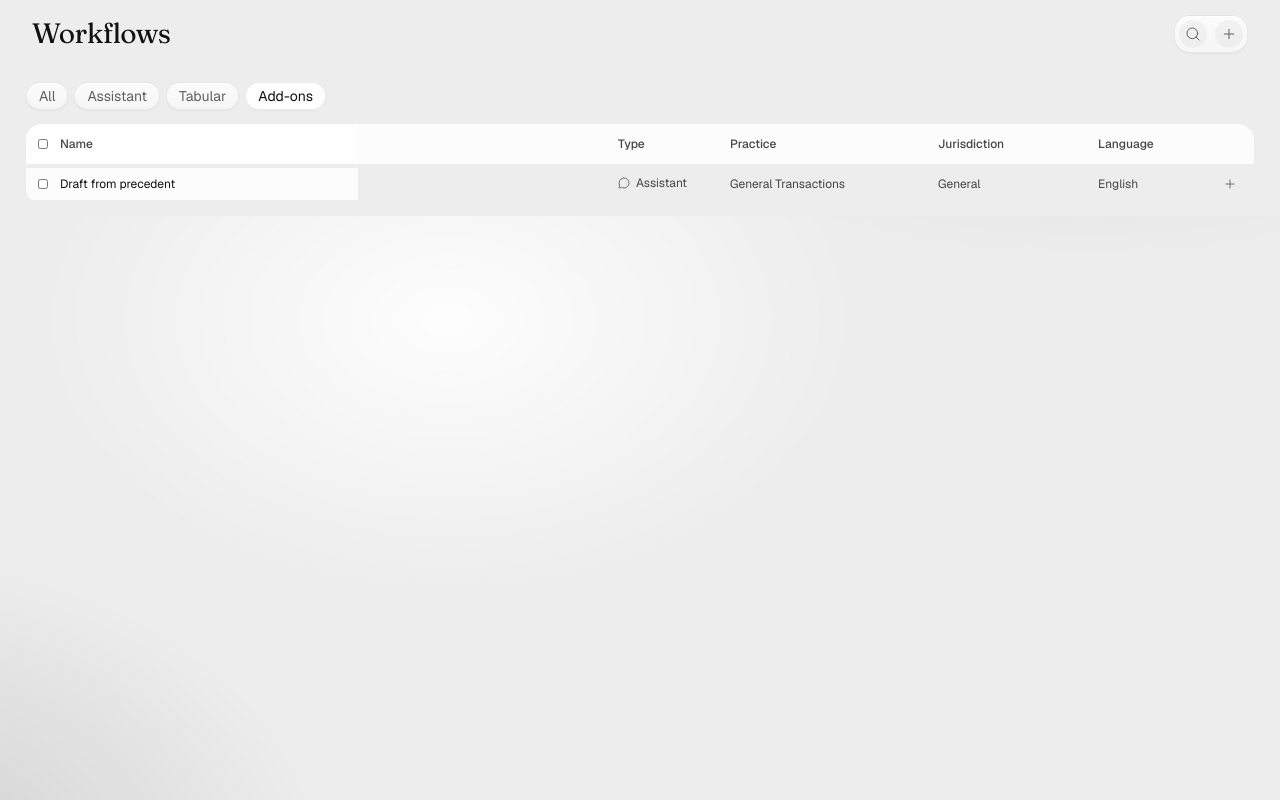
it: WorkflowList pack toolbar › uses an icon row import action and keeps the bulk import pill
Expected: the button named "Import" is empty, 1218,172 -> 1242,196
Expected: the 4th icon is shown, 1223,177 -> 1237,191
Click the checkbox named "Select Draft from precedent": (43, 184) 38,179 -> 48,189
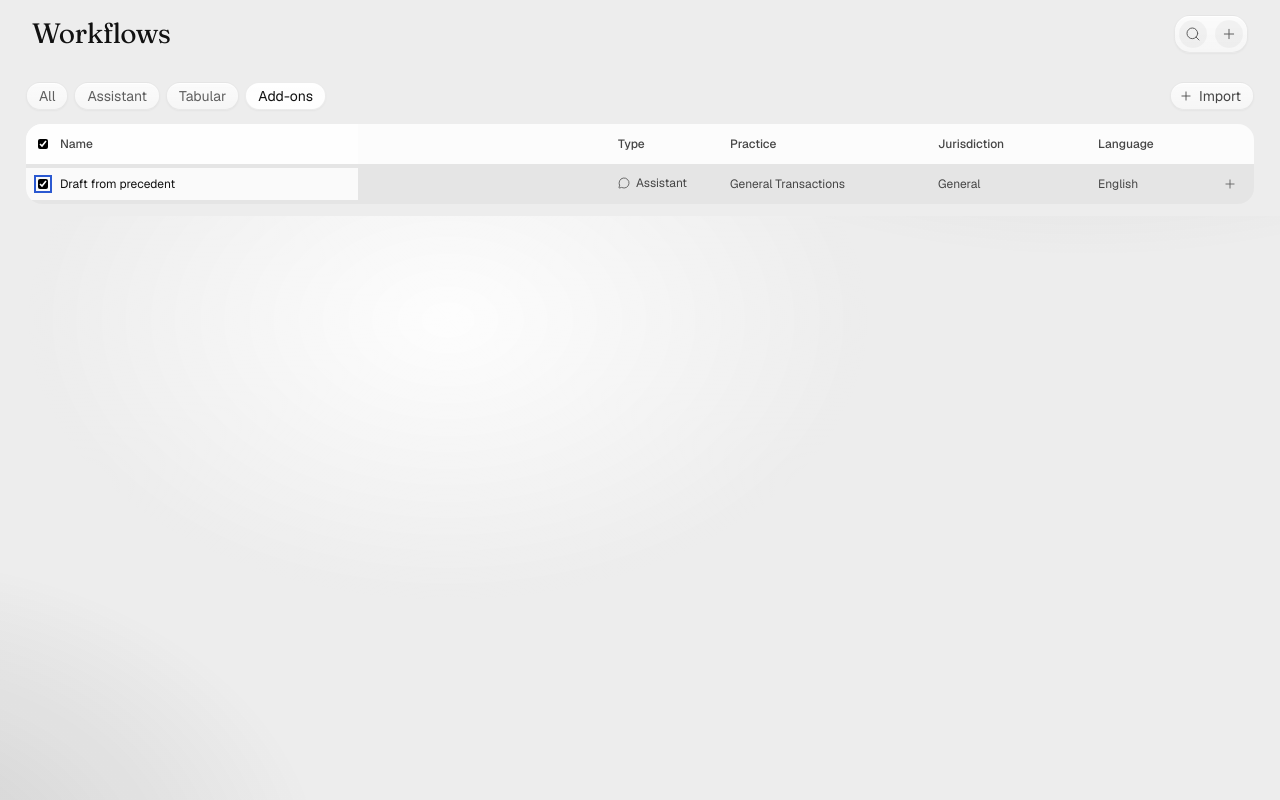
Now the number of buttons "Import" is 2, box 1170,82 -> 1254,110; 1218,172 -> 1242,196
